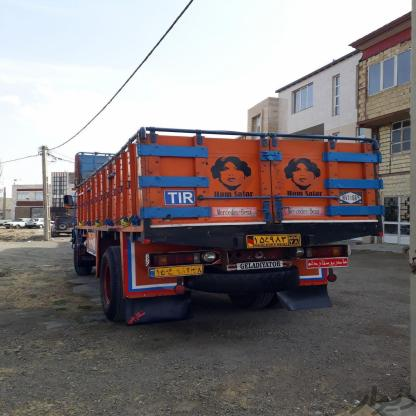Truck: (74, 126, 380, 305)
